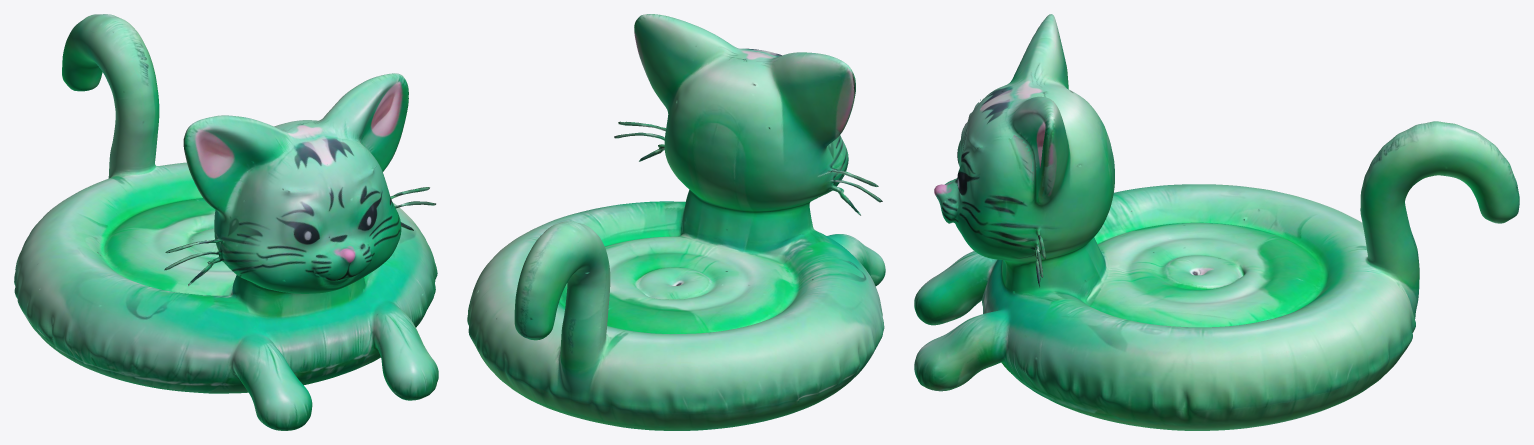
The model's file is Float4.fbx.
3 views of the same model, side by side, from view 1: azimuth 30°, elevation 25°; view 2: azimuth 150°, elevation 25°; view 3: azimuth 270°, elevation 25° (orthographic). The views are drawn at different scales.
Parts seen in each view (by area): view 1: float_Green; view 2: float_Green; view 3: float_Green.
Boxes of the visible parts, x1,y1,x2,y2 form: float_Green: (14, 14, 438, 430); float_Green: (467, 14, 885, 430); float_Green: (914, 14, 1519, 430).
Size of the model in its own units: 148 by 106 by 200.
Materials: 1 (1 with a texture image).
